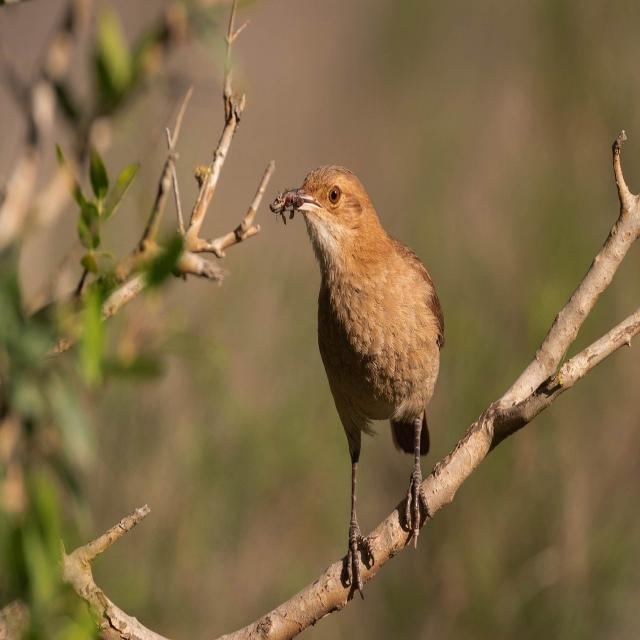bird: (266, 130, 454, 582)
